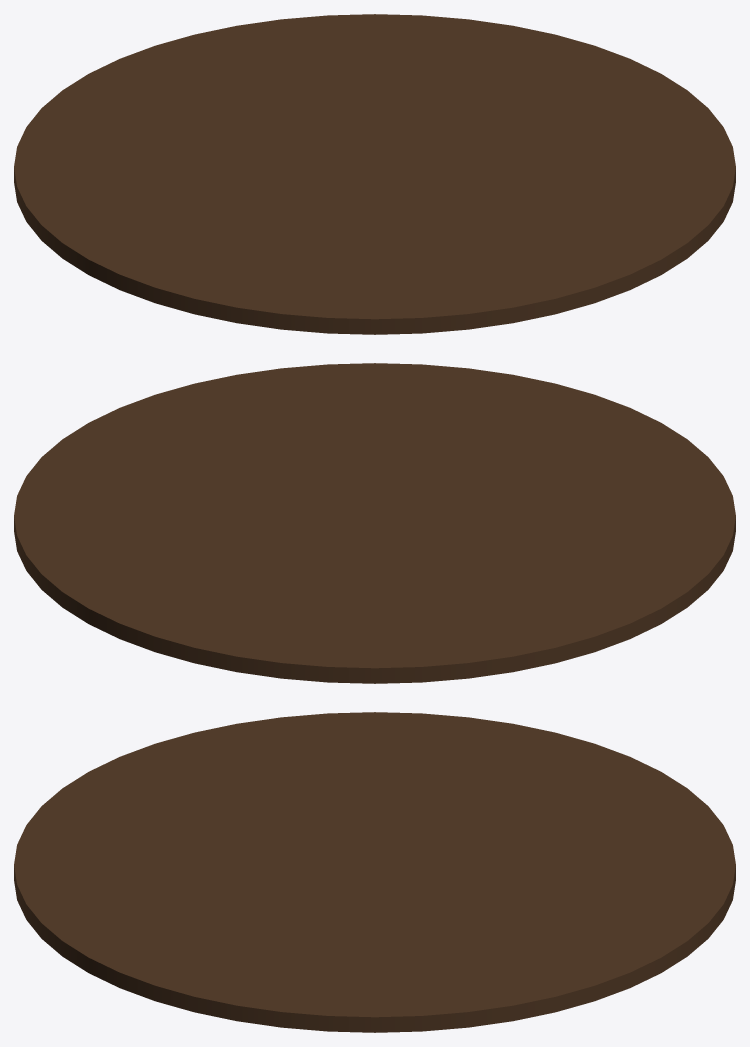
File: top.glb
The picture shows the model from 3 angles, top to bottom: view 1: azimuth 30°, elevation 25°; view 2: azimuth 150°, elevation 25°; view 3: azimuth 270°, elevation 25°; orthographic projection.
Visible parts, largest first — view 1: TopMesh; view 2: TopMesh; view 3: TopMesh.
Boxes of the visible parts, x1,y1,x2,y2 form: TopMesh: (14,14,735,334); TopMesh: (14,363,735,683); TopMesh: (14,712,735,1032).
Bounding box in the file's own units: 1.68 × 0.04 × 1.68.
